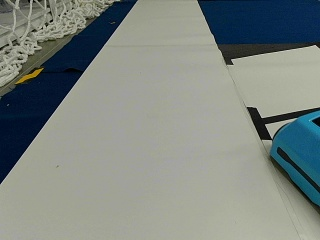car: (269, 107, 317, 206)
